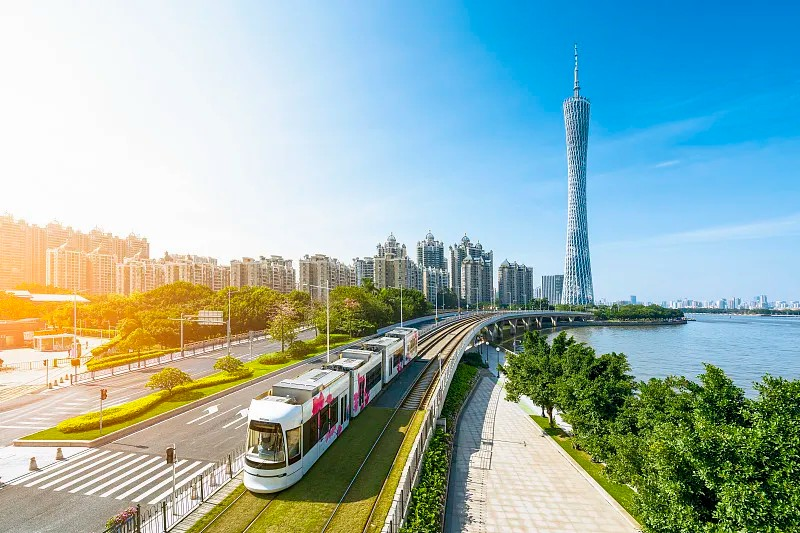Canton: (556, 44, 594, 306)
